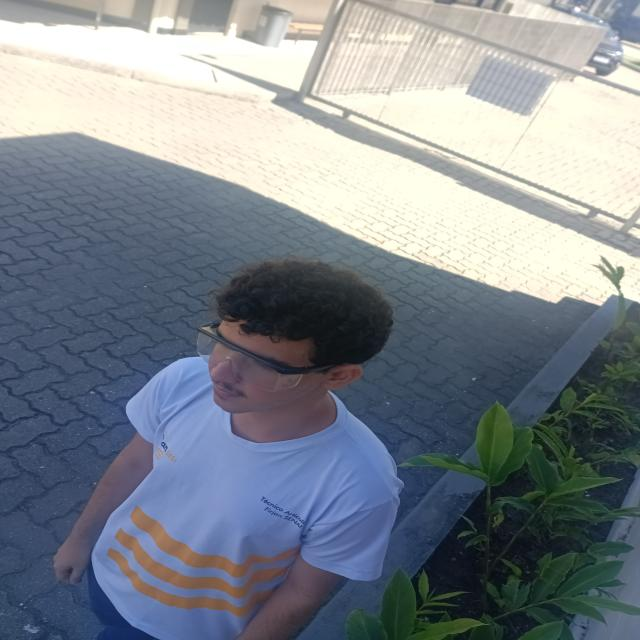oculos-epi: (197, 323, 329, 392)
